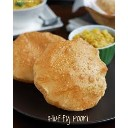poori: (33, 38, 107, 107), (13, 31, 68, 82)
